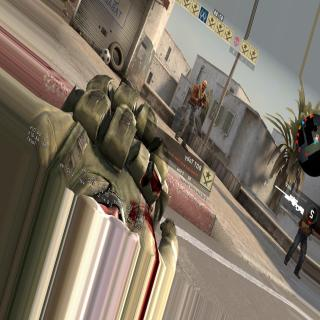T-Body: (174, 79, 210, 152), (292, 209, 312, 269)
T-Head: (201, 80, 208, 93)
